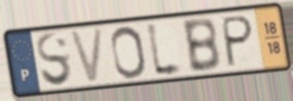B: (180, 16, 223, 75)
L: (144, 18, 187, 81)
O: (108, 24, 148, 81)
P: (221, 14, 256, 70)
S: (34, 30, 74, 89)
V: (67, 25, 107, 86)
